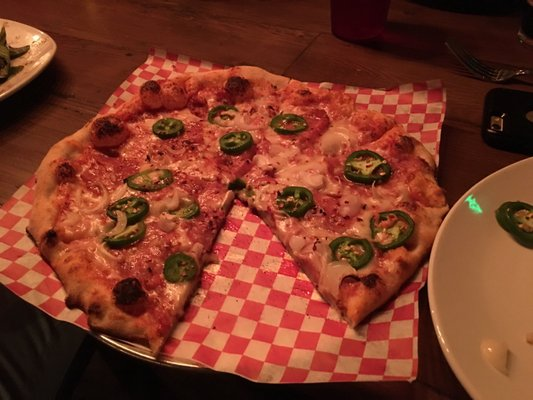burger: (444, 39, 533, 84)
pizza: (329, 0, 392, 43)
sushi: (427, 152, 533, 400)
